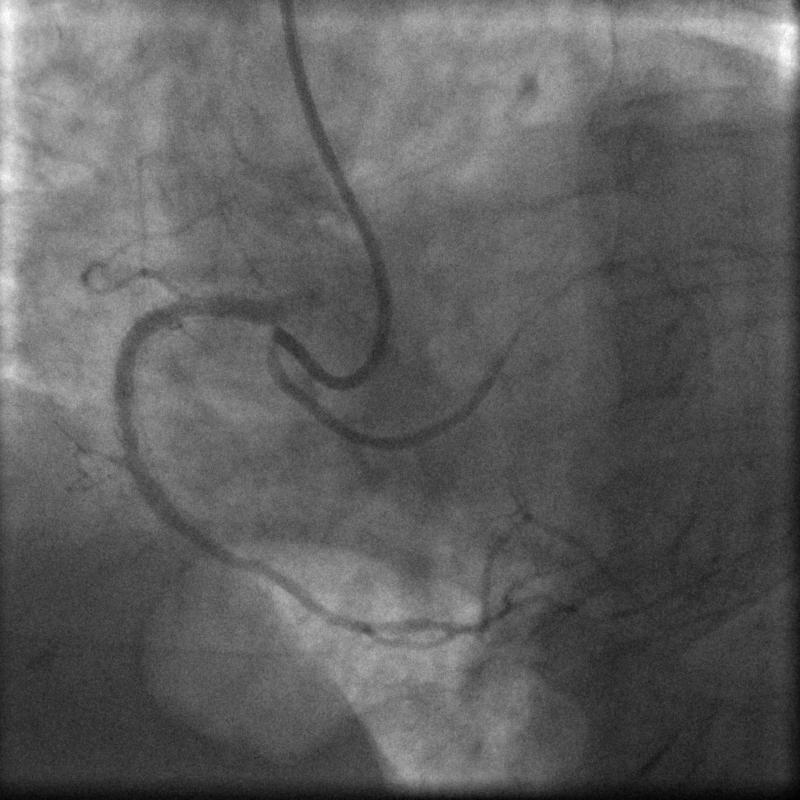Stenosis: (116, 393, 142, 469)
